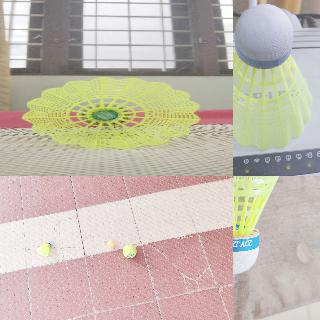shuttlecock: (21, 77, 199, 150), (233, 3, 313, 151), (233, 176, 310, 275), (36, 242, 52, 256)
